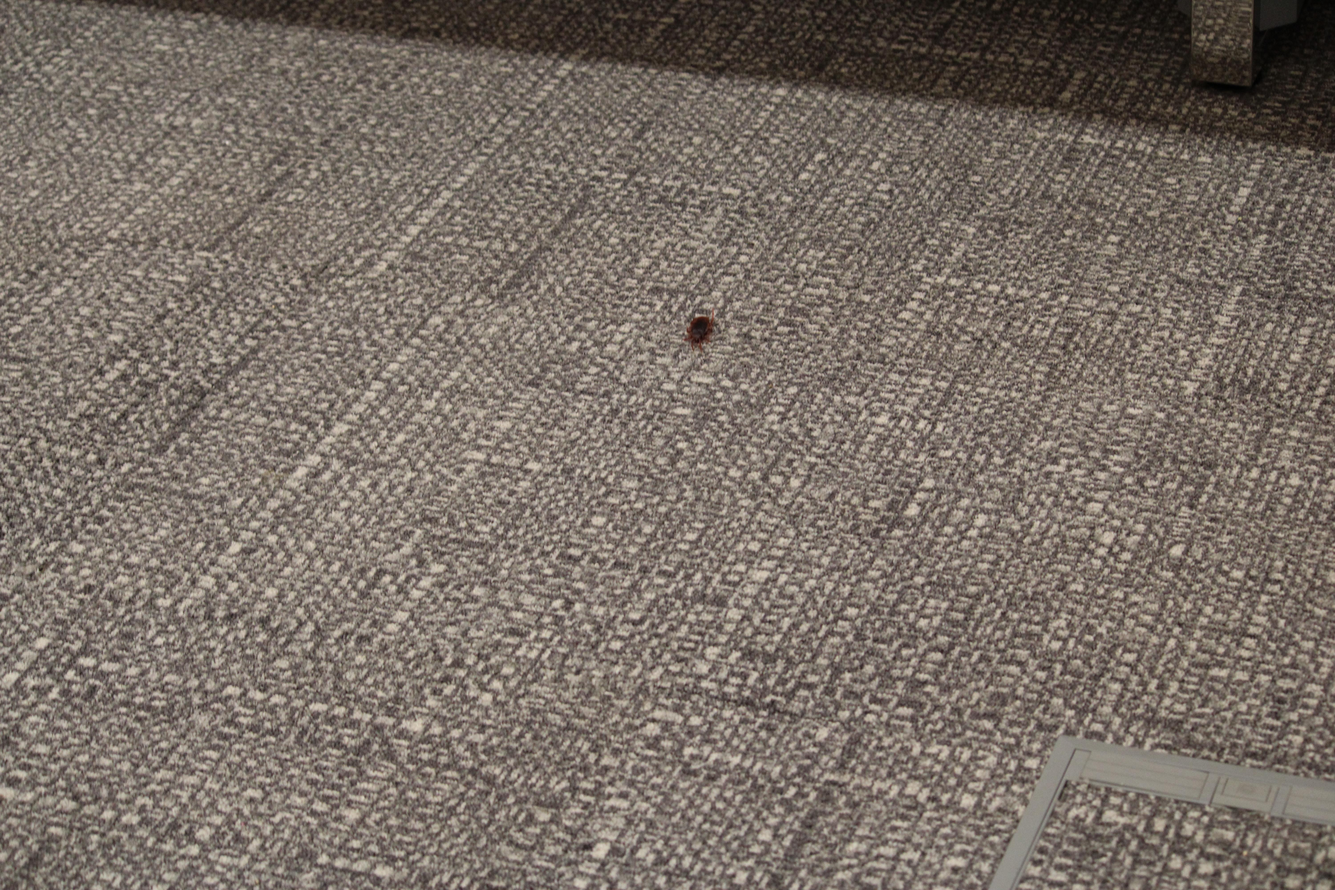cockroach: (672, 296, 727, 353)
